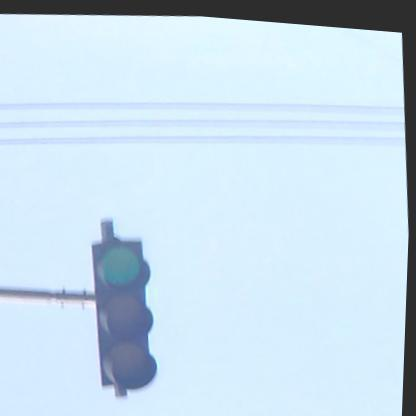green: (90, 232, 166, 392)
